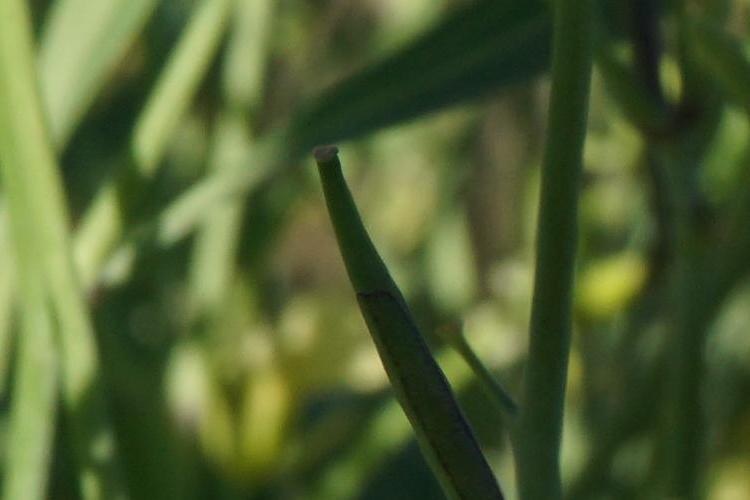pod: (309, 122, 543, 492)
